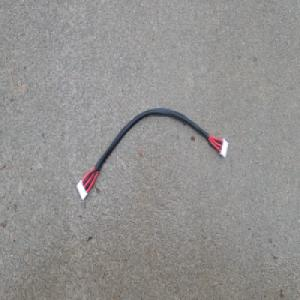Wire: (75, 105, 229, 201)
